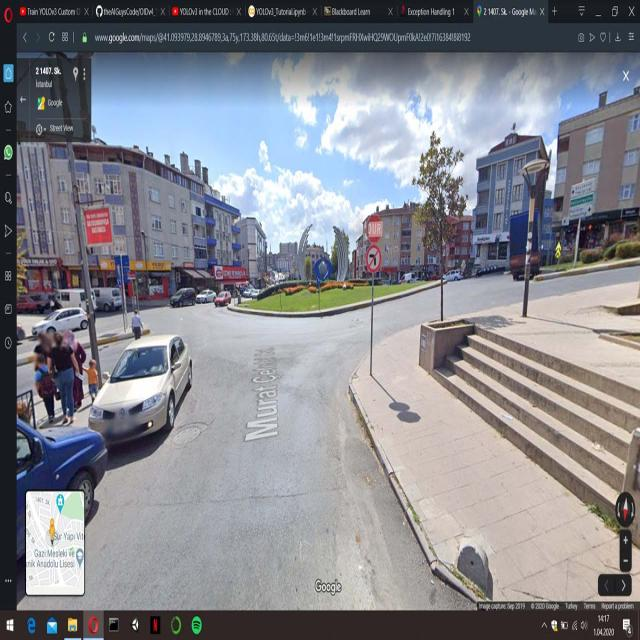dur: (365, 214, 383, 244)
soladonulmez: (365, 246, 381, 272)
